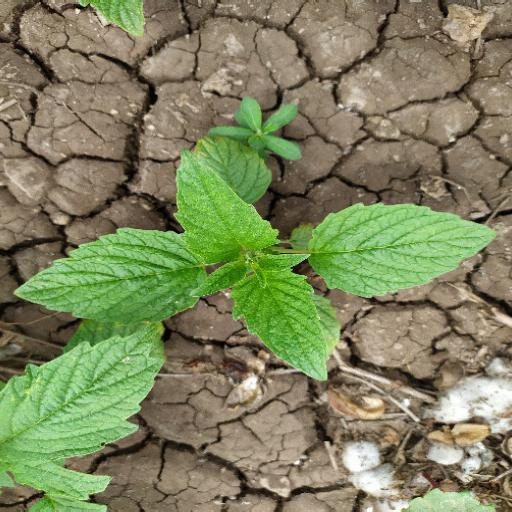crop: (11, 142, 503, 383)
